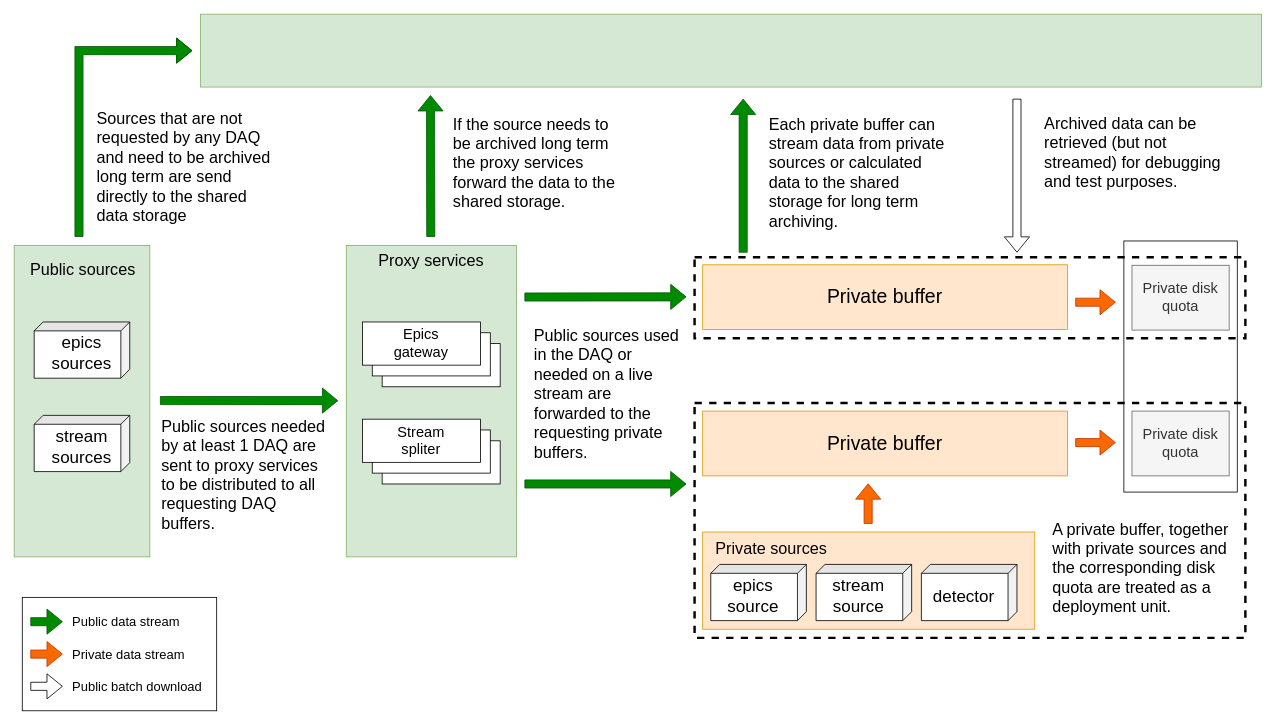
Some shapes in this 1276 by 725 pixel diagram are drawn without their labels. The box of each missing label's shape, as (x1, y1, x2, y2) in pixels:
GPFS storage: (1123, 240, 1237, 492)
Shared data storage: (200, 13, 1262, 87)
